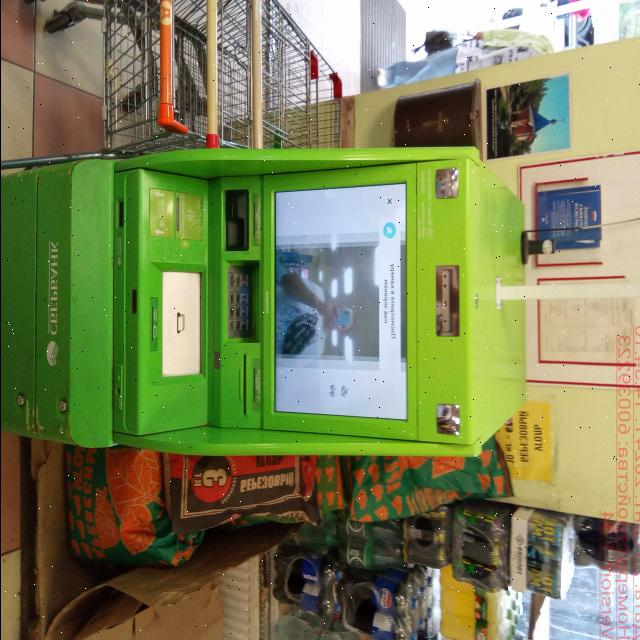bank: (1, 143, 530, 460)
